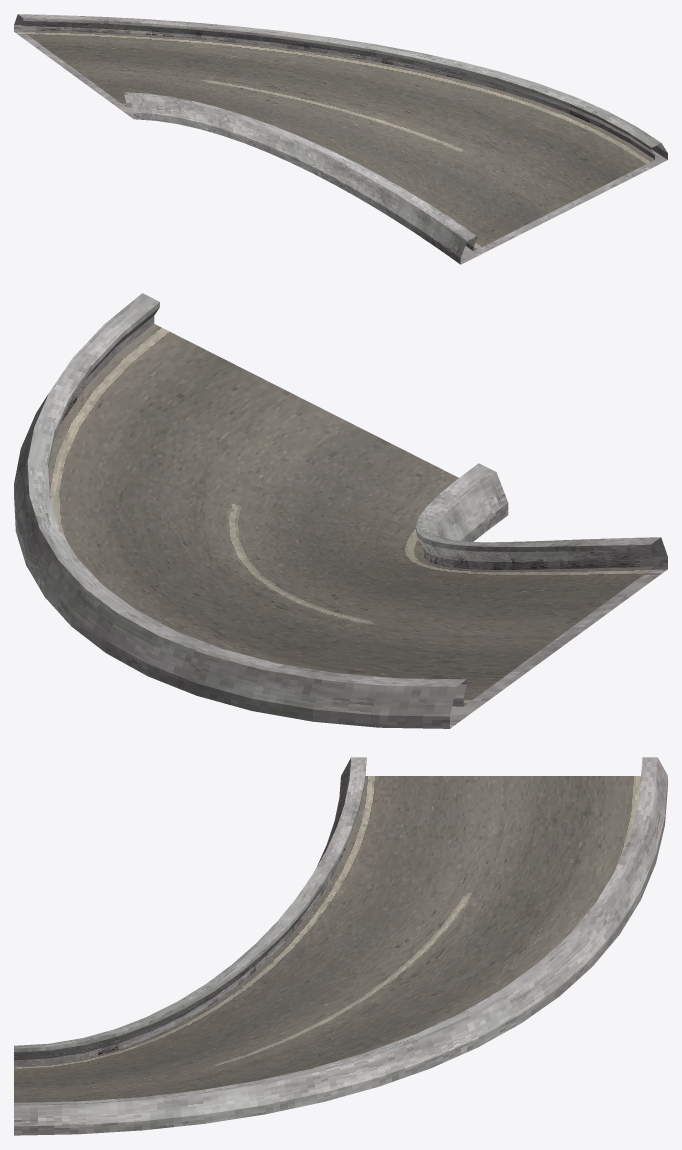
Rendered from road-Turn-HalfBankedLeft-BiSlopeUp-Up2-Left-Size2.glb.
3 renders of one model, top to bottom at view 1: azimuth 30°, elevation 25°; view 2: azimuth 150°, elevation 25°; view 3: azimuth 270°, elevation 25°, orthographic. The views are drawn at different scales.
Parts seen in each view (by area): view 1: road-Turn-HalfBankedLeft-BiSlopeUp-Up2-Left-Size2; view 2: road-Turn-HalfBankedLeft-BiSlopeUp-Up2-Left-Size2; view 3: road-Turn-HalfBankedLeft-BiSlopeUp-Up2-Left-Size2.
Part boxes in pixels (left/top/right/bottom): road-Turn-HalfBankedLeft-BiSlopeUp-Up2-Left-Size2: left=14, top=14, right=667, bottom=264; road-Turn-HalfBankedLeft-BiSlopeUp-Up2-Left-Size2: left=14, top=293, right=667, bottom=728; road-Turn-HalfBankedLeft-BiSlopeUp-Up2-Left-Size2: left=14, top=757, right=667, bottom=1135.
Size of the model in its own units: 2 by 0.5937 by 2.
Materials: 2 (2 with a texture image).
